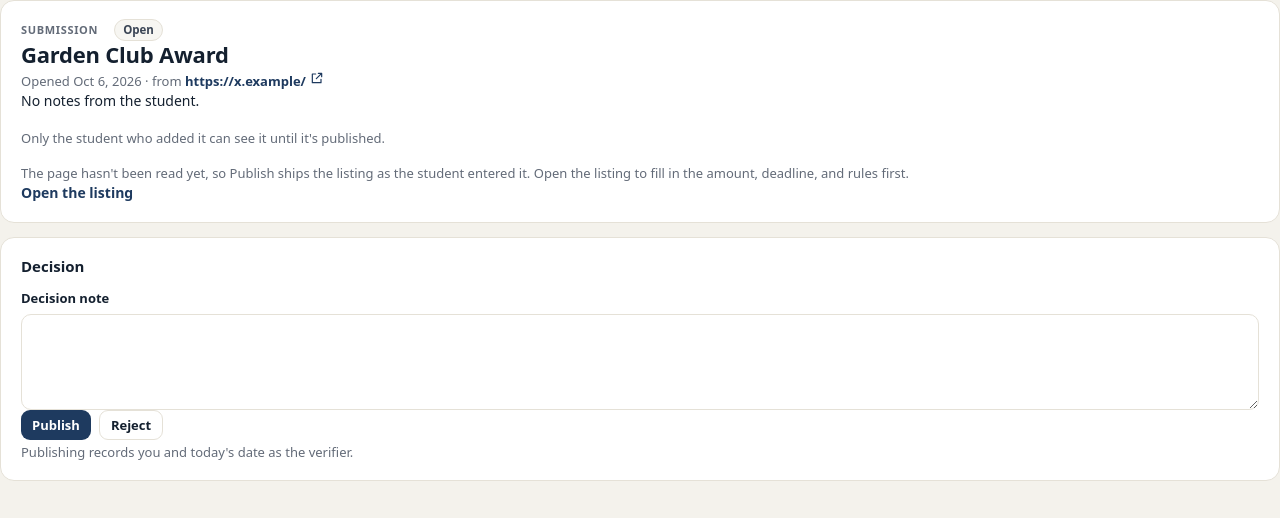
Test: TaskReview › offers plain Publish for a submission the extractor hasn't read
The image size is (1280, 518).
Expected: the text "The page hasn't been read yet" is shown, [21, 164, 909, 182]
Click the button "Publish" at (56, 425), box [21, 410, 91, 440]
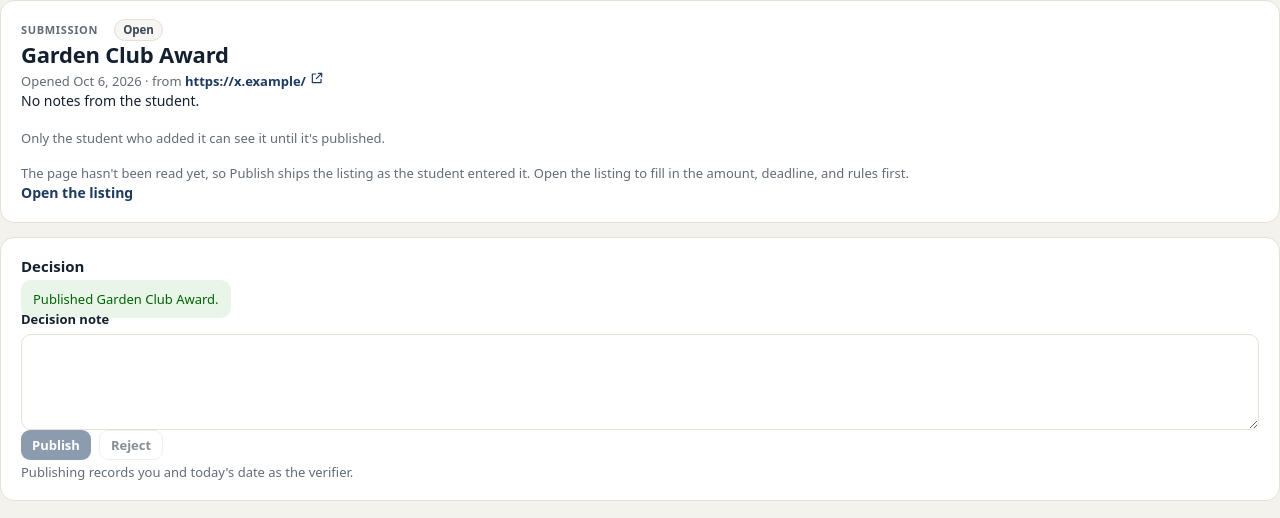
Now the text "Published Garden Club Award." is shown, box [21, 280, 231, 318]
